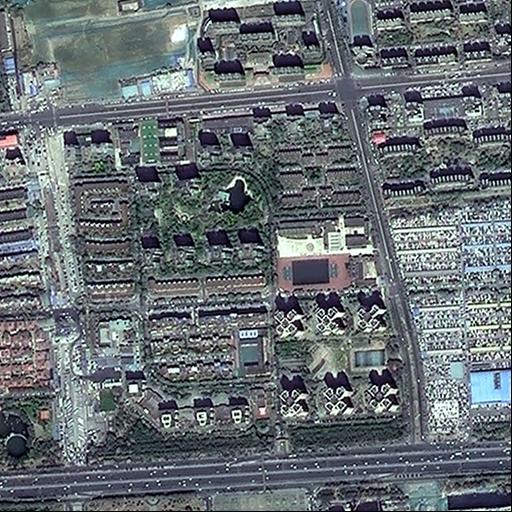school: (266, 211, 385, 294), (111, 113, 192, 171), (233, 327, 271, 386)
